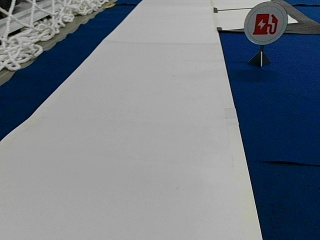battery: (243, 0, 288, 45)
